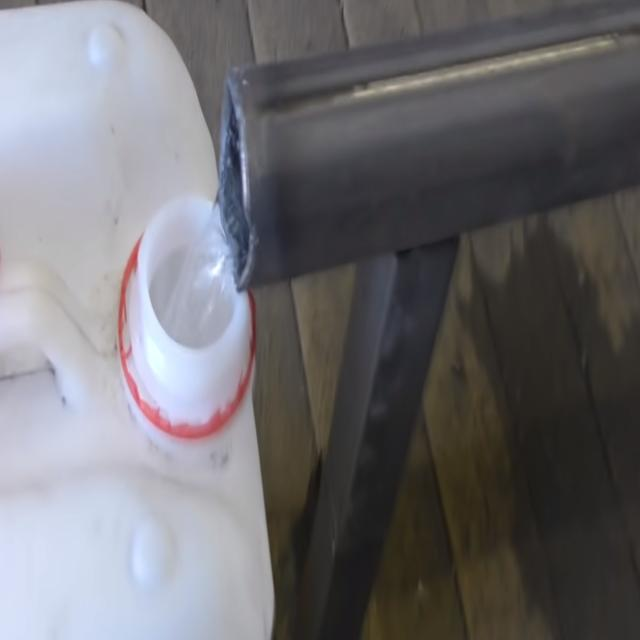leak: (150, 86, 252, 348)
